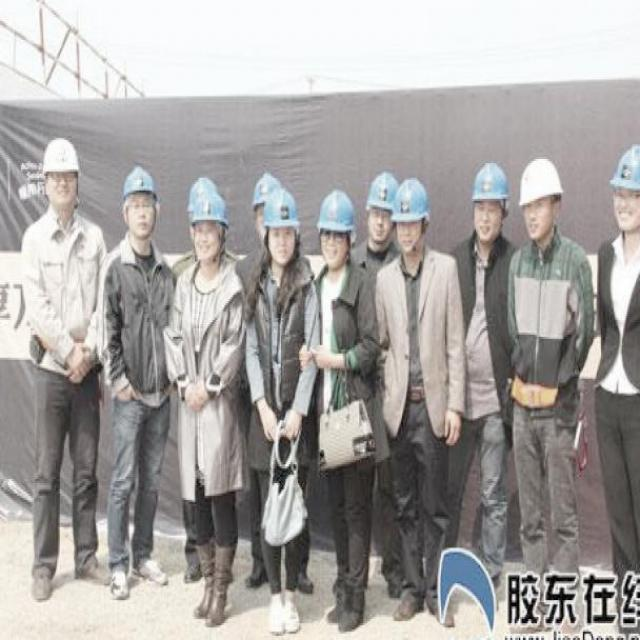helmet: (175, 161, 228, 274), (247, 167, 302, 264), (511, 148, 563, 248), (600, 127, 638, 241), (313, 184, 365, 265), (468, 152, 510, 251), (38, 121, 83, 210), (114, 158, 156, 247), (390, 167, 432, 253), (366, 163, 394, 246)
